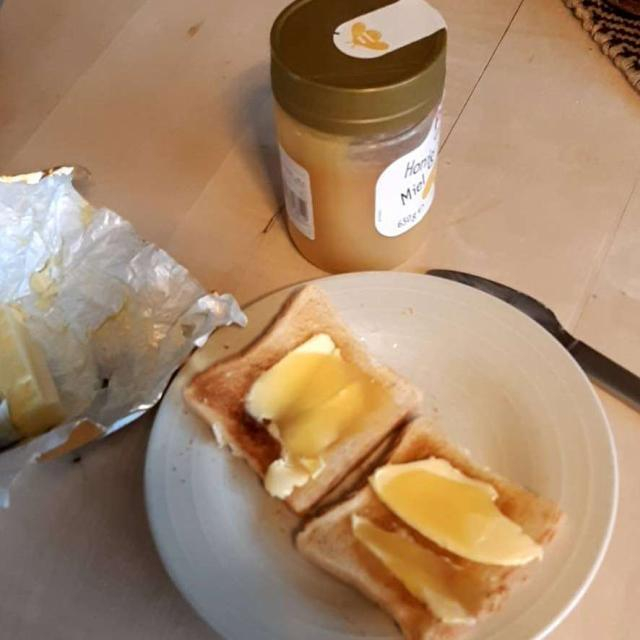bread: (191, 296, 559, 627)
butter: (253, 338, 538, 632)
honey: (274, 355, 496, 600)
